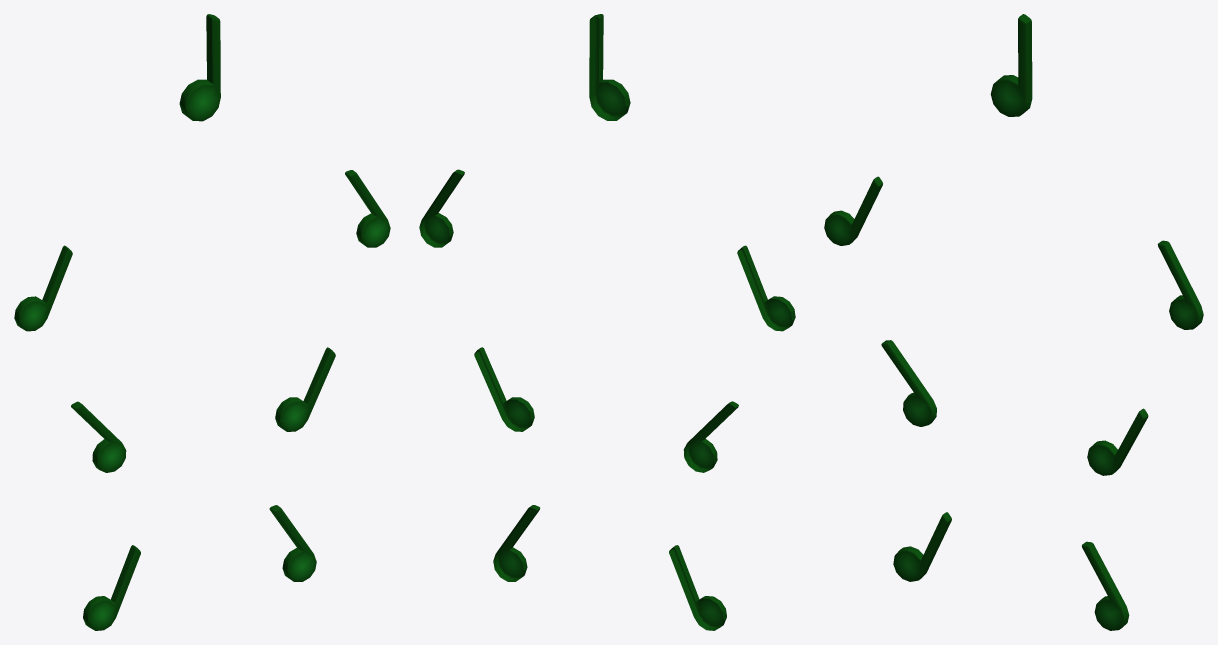
The model's file is Grave Tomb Notes.fbx.
3 views of the same model, side by side, from view 1: azimuth 30°, elevation 25°; view 2: azimuth 150°, elevation 25°; view 3: azimuth 330°, elevation 25° (orthographic).
Visible parts, largest first — view 1: polySurface333; view 2: polySurface333; view 3: polySurface333.
Boxes of the visible parts, x1,y1,x2,y2 form: polySurface333: (14, 14, 390, 630); polySurface333: (419, 14, 795, 630); polySurface333: (824, 14, 1203, 630).
Bounding box in the file's own units: 195 × 293 × 5.03.
